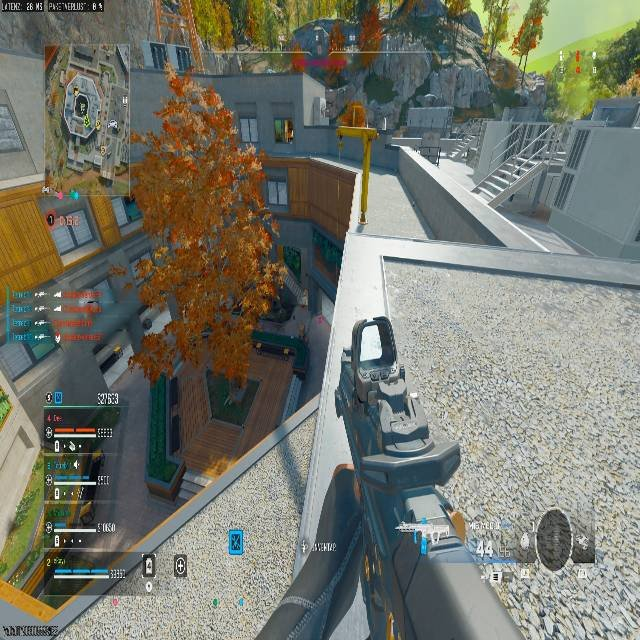head: (262, 262, 286, 288)
